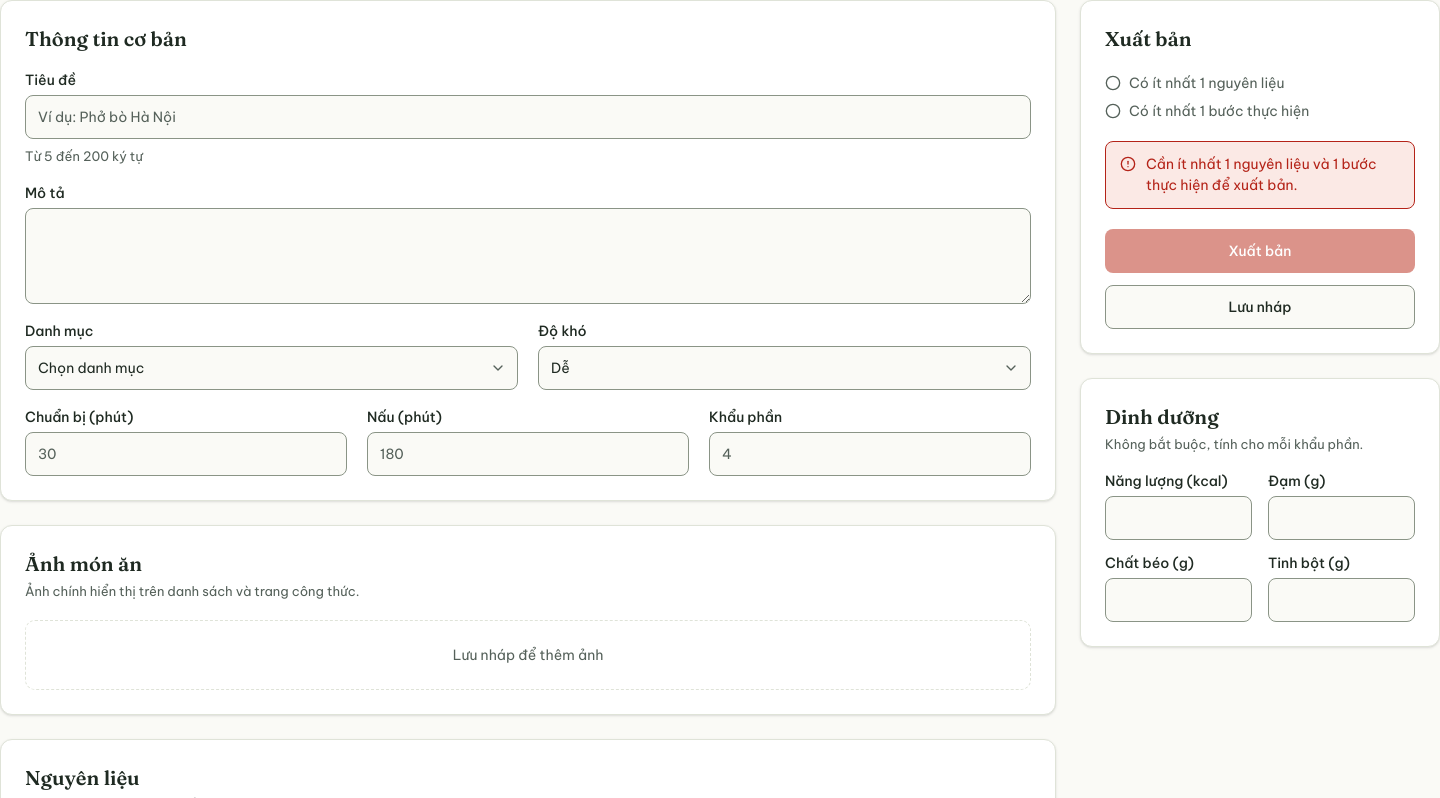
Scenario: RecipeEditor › shows validation errors and does not submit
Click the button "Lưu nháp" at (1260, 307), box [1105,285,1415,329]
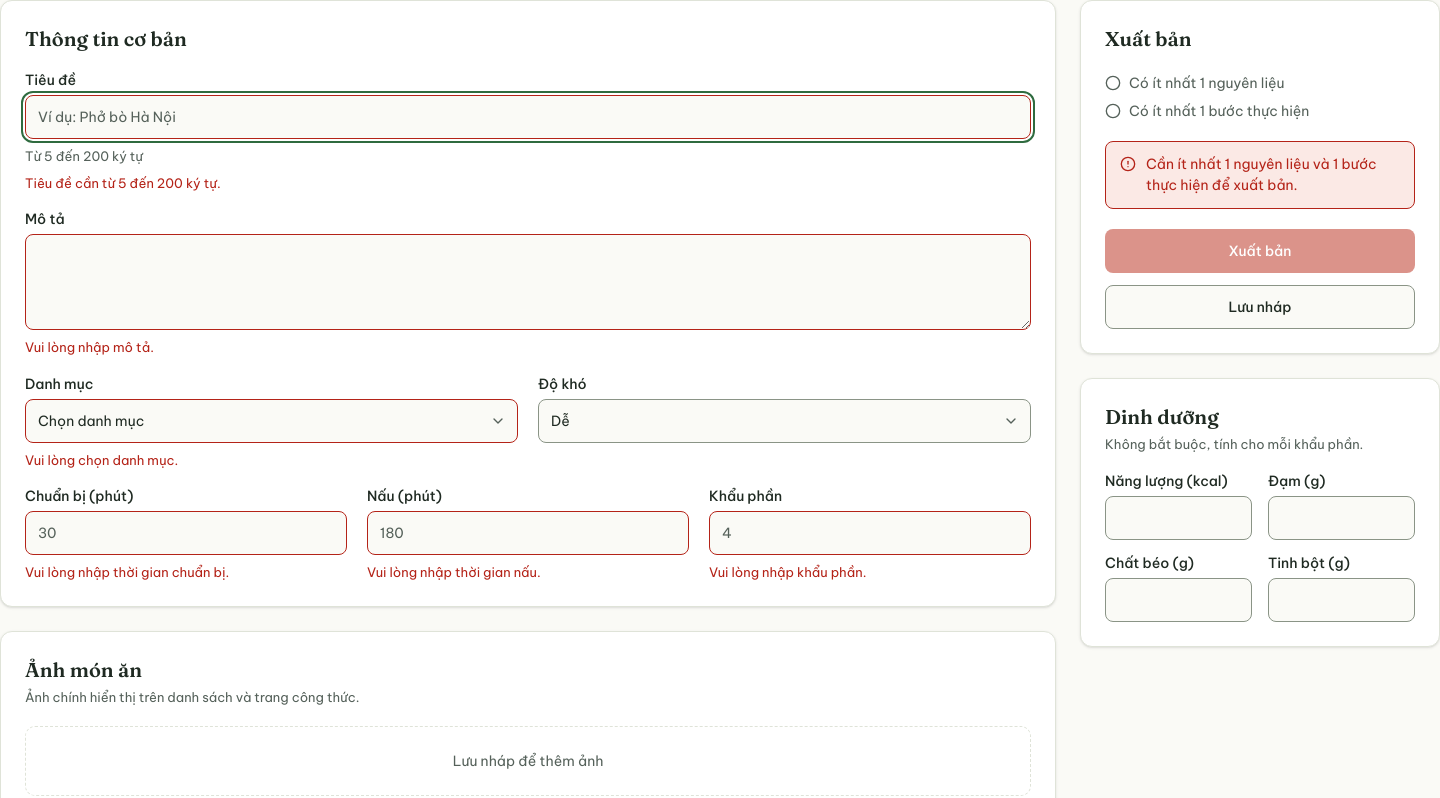
Result: the text "Tiêu đề cần từ 5 đến 200 ký tự." is shown at [25,175,221,191]
